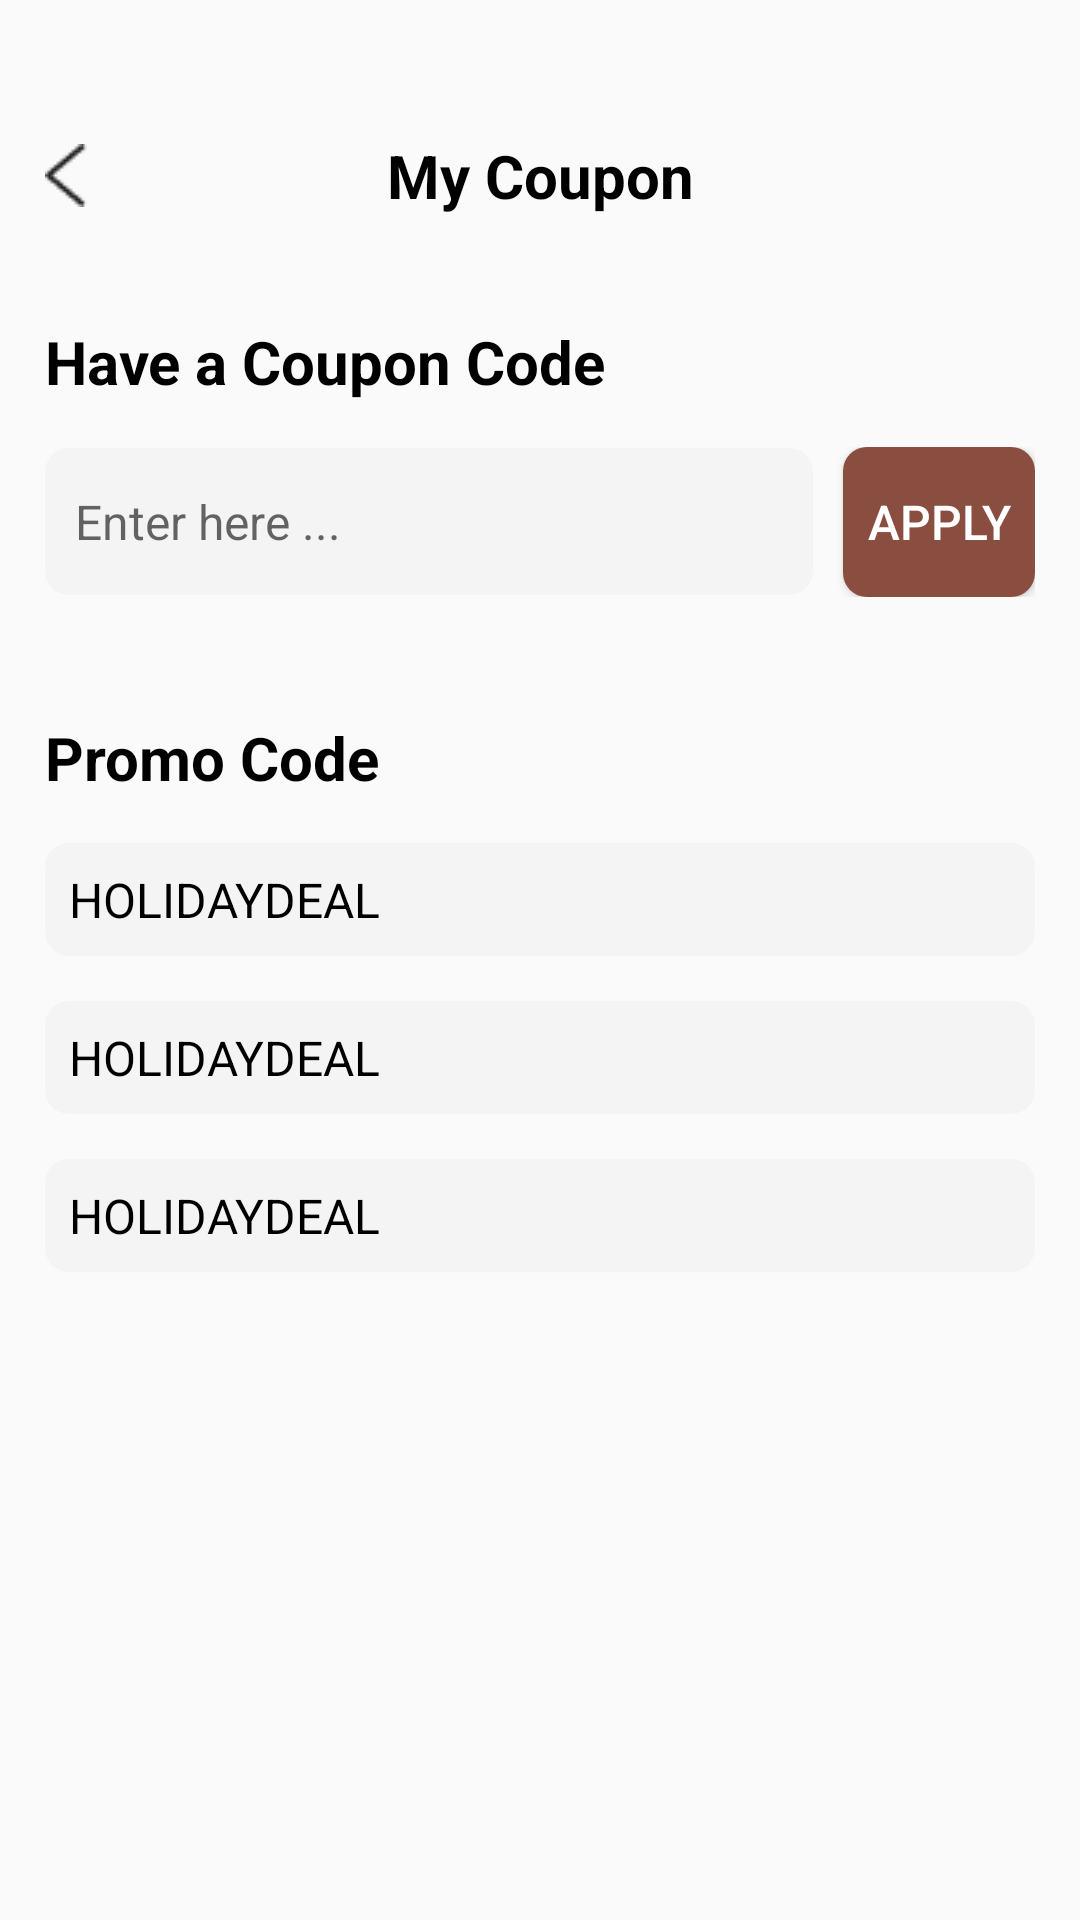

Where to tap for icons on this 1080w x 1920h app screen, as [x,y]:
back: [66,175]
